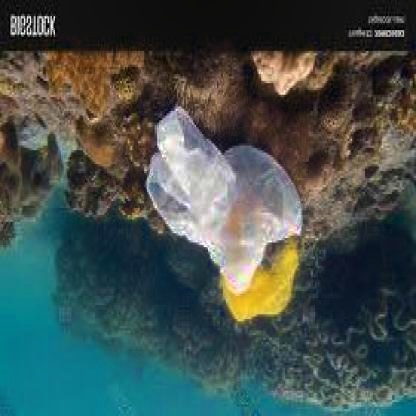pbag: (141, 102, 309, 298), (208, 240, 302, 328)
